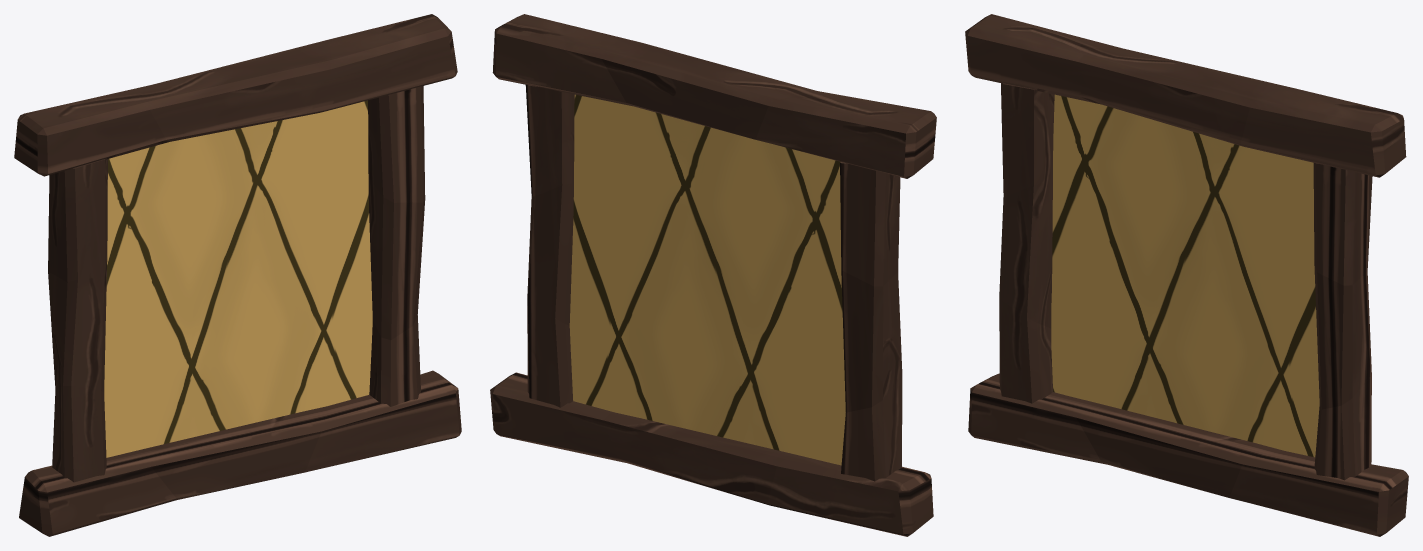
File: HouseWindow.fbx
3 renders of one model, left to right at view 1: azimuth 30°, elevation 25°; view 2: azimuth 150°, elevation 25°; view 3: azimuth 330°, elevation 25°, orthographic.
Visible parts, largest first — view 1: House.018; view 2: House.018; view 3: House.018.
Boxes of the visible parts, left/top/right/bottom form: House.018: left=14, top=14, right=461, bottom=536; House.018: left=490, top=14, right=936, bottom=536; House.018: left=965, top=14, right=1408, bottom=536.
Bounding box in the file's own units: 1.56 × 1.45 × 0.2116.
